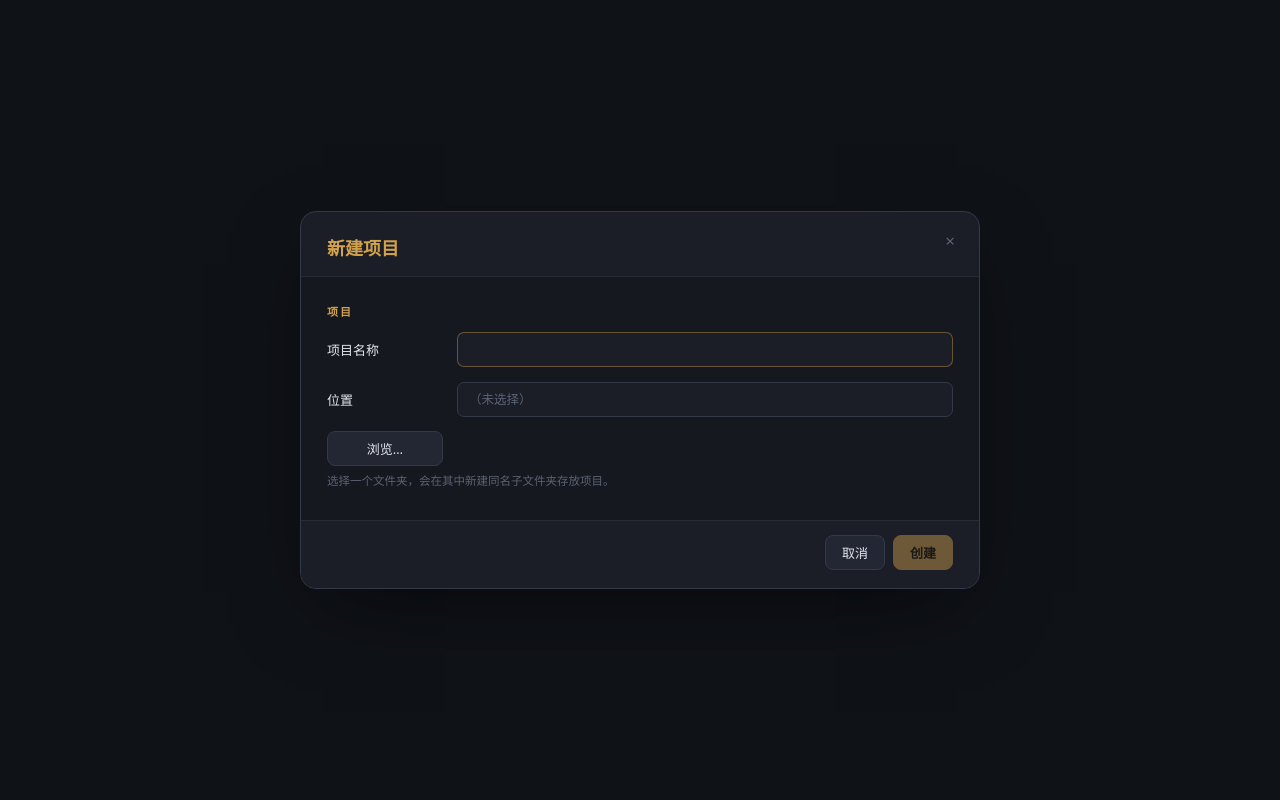
NewProjectDialog › 名 / 位置齐备前「创建」置灰，齐备后可点
The width and height of the screenshot is (1280, 800).
Check: the button "创建" is disabled, box 893,535 -> 953,570
Type "雾港" into the field named "项目名称".
click(705, 349); type("雾港")  # box 457,332 -> 953,367
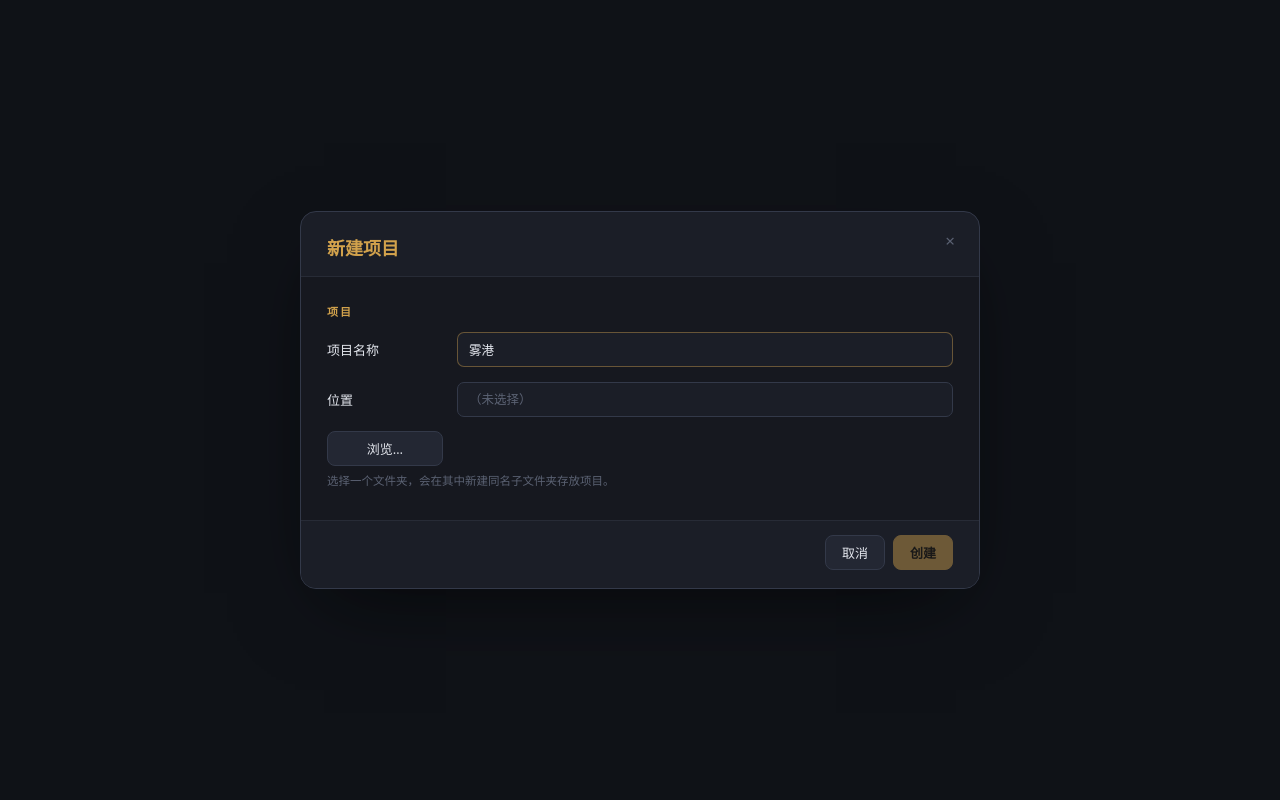
Check: the button "创建" is disabled, box 893,535 -> 953,570
Click the button "浏览…".
click(385, 448)  # box 327,431 -> 443,466
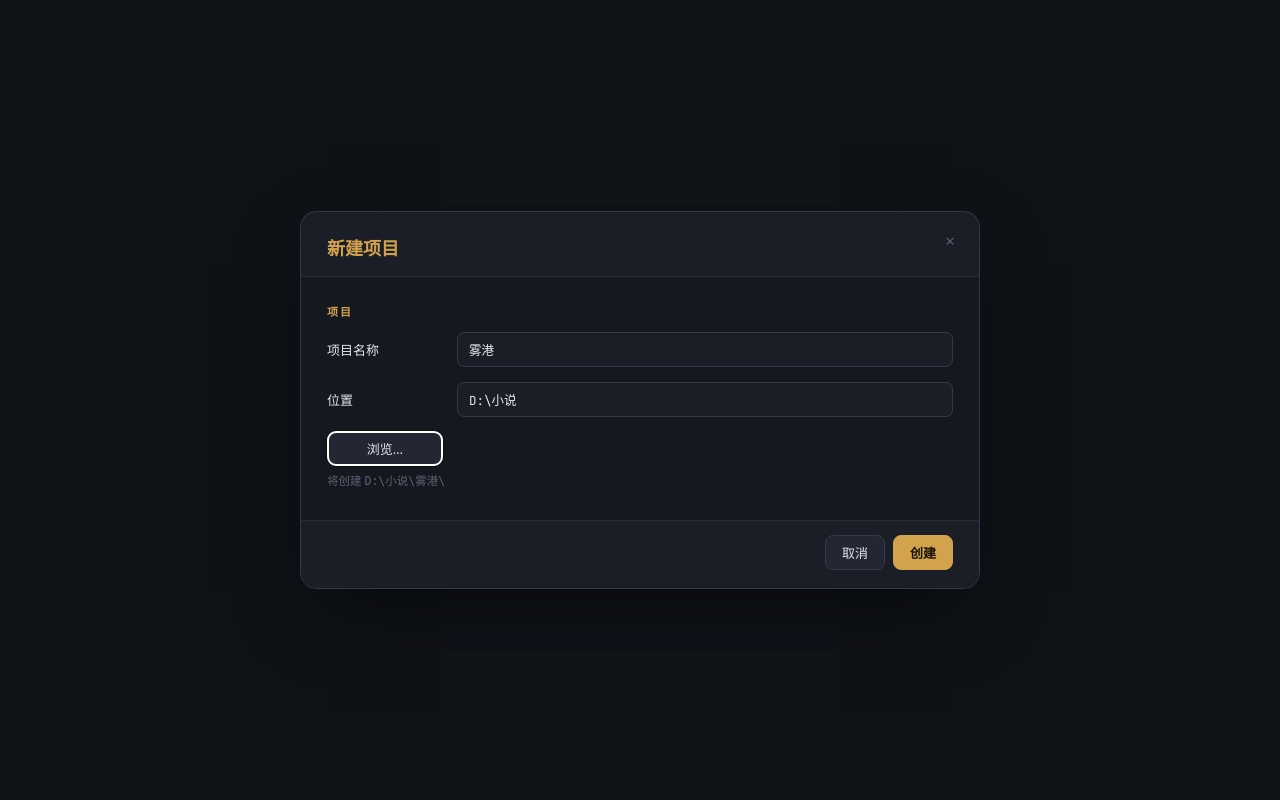
Check: the button "创建" is enabled, box 893,535 -> 953,570
